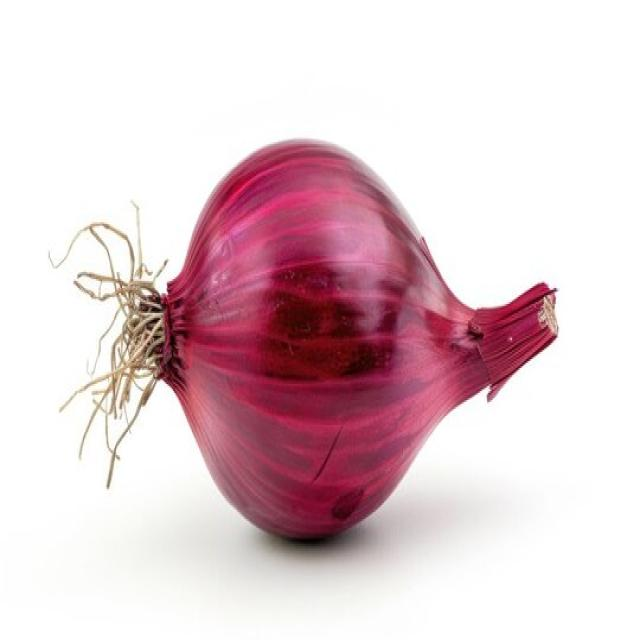Onion: (48, 135, 558, 542)
